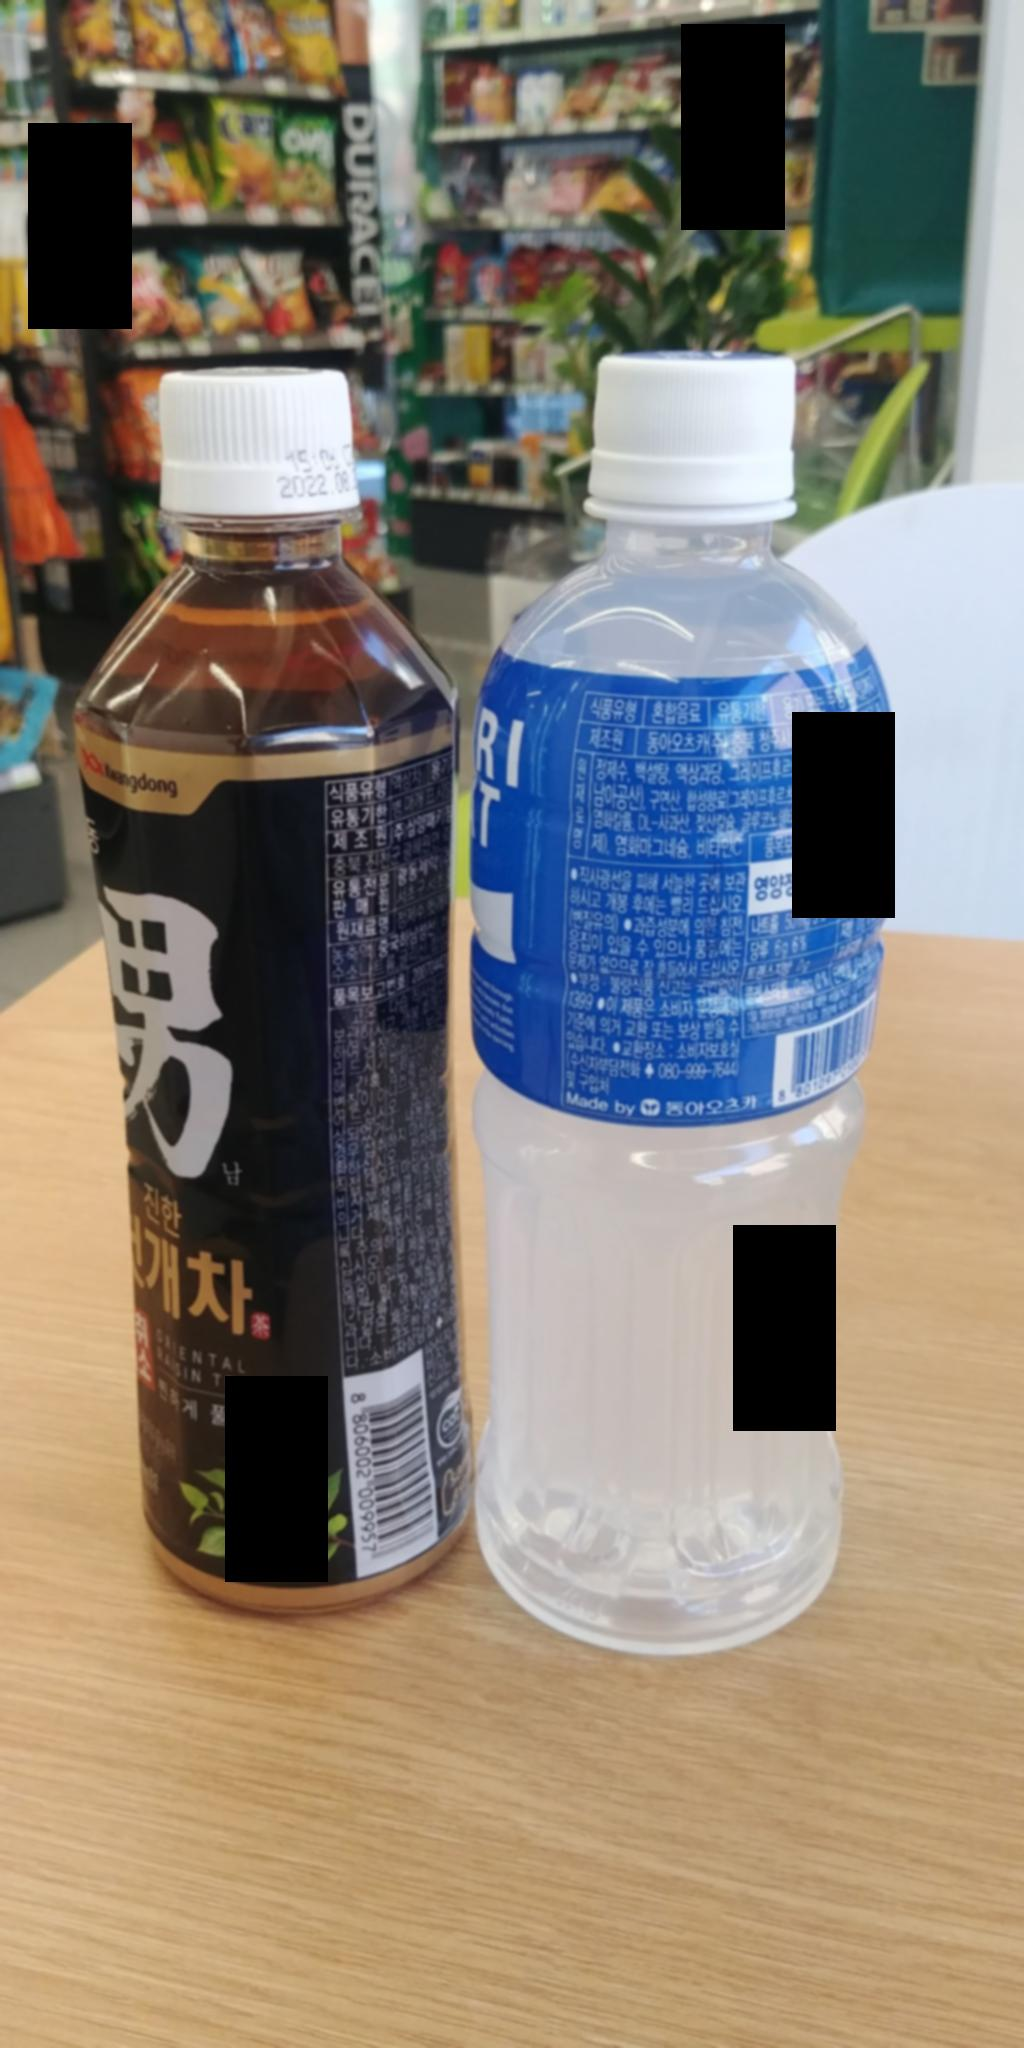heotgaecha: (68, 347, 492, 1609)
pocarisweat: (469, 320, 908, 1664)
